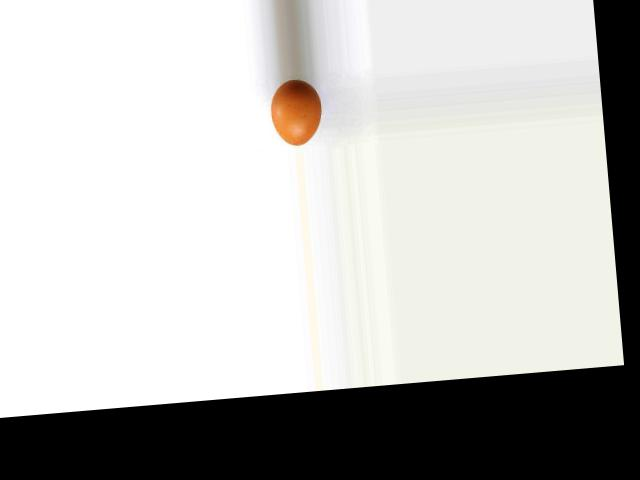egg: (269, 77, 324, 146)
